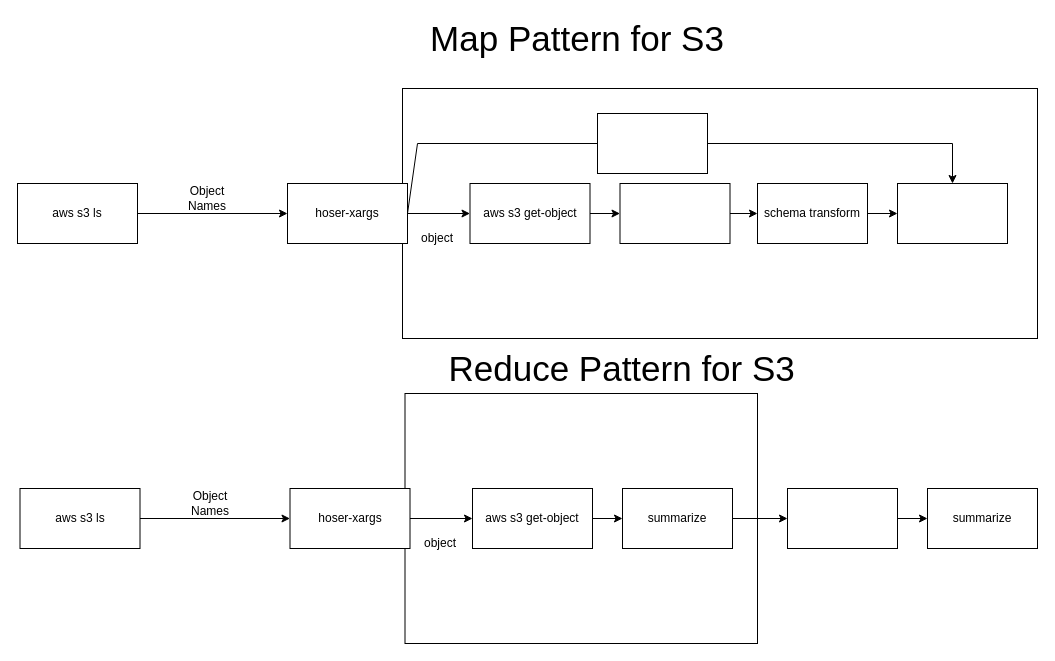
This 1055x661 diagram has some shape labels left out. The shapes that lost their labels are listed below. From the top down, each one's centre as x and y in pixels, then its label:
pixel 652 143: modify object path
pixel 674 213: grep
pixel 952 213: aws s3 put-object
pixel 842 518: hoser-merge
